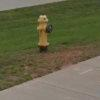Hydrant: (30, 7, 62, 70)
